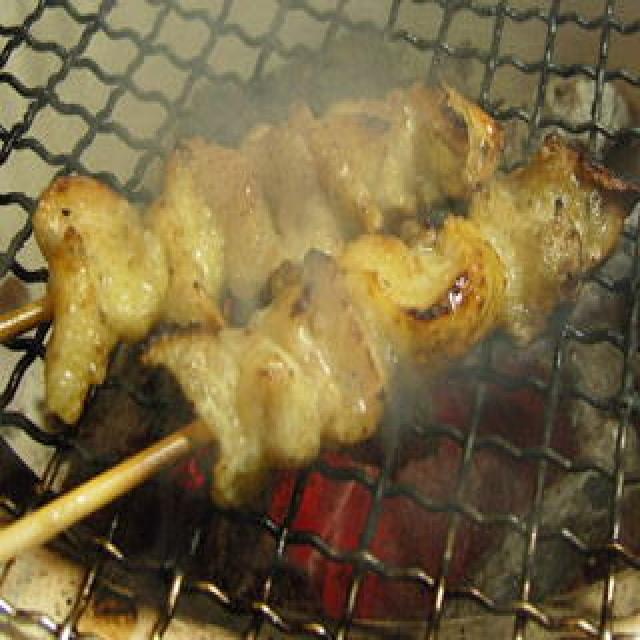烧串烤肉: (0, 64, 640, 640)
